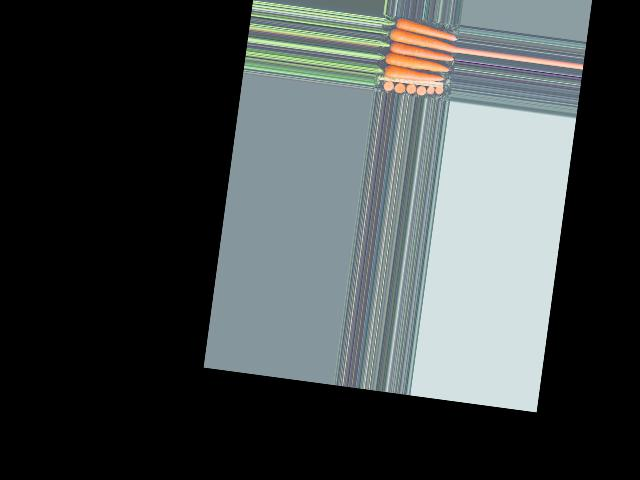carrot: (378, 64, 447, 88)
